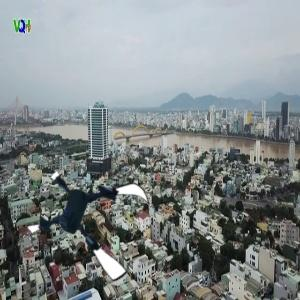drone: (32, 162, 155, 285)
